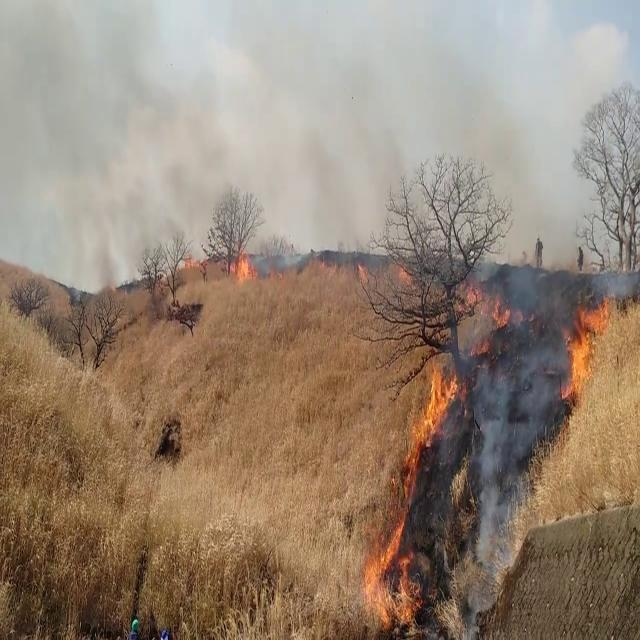Fire: (360, 356, 470, 630), (558, 298, 610, 400), (230, 244, 256, 282)
Smoke: (0, 0, 600, 280), (480, 292, 563, 542)
